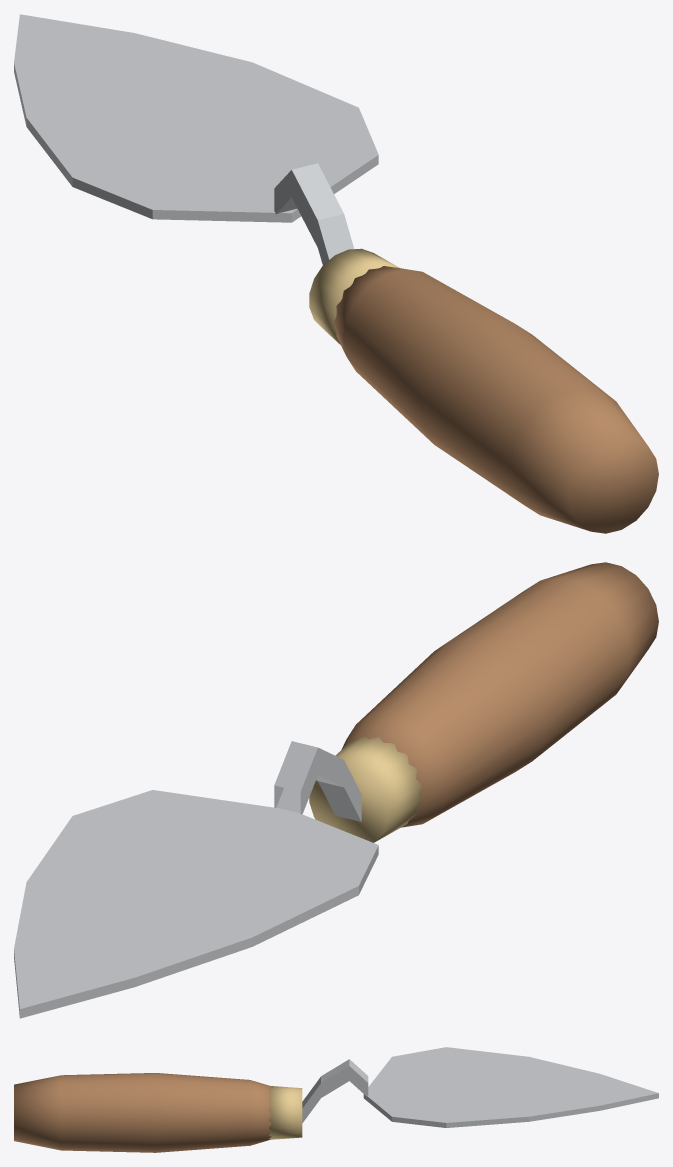
The model's file is trowel.glb.
3 views of the same model, one above another, from view 1: azimuth 30°, elevation 25°; view 2: azimuth 150°, elevation 25°; view 3: azimuth 270°, elevation 25° (orthographic). The views are drawn at different scales.
Visible parts, largest first — view 1: trowel; view 2: trowel; view 3: trowel.
Part boxes in pixels (bbox=[...]): trowel: bbox=[14, 14, 658, 533]; trowel: bbox=[14, 562, 658, 1018]; trowel: bbox=[14, 1047, 658, 1152].
Size of the model in its own units: 0.076 by 0.0402 by 0.273.
